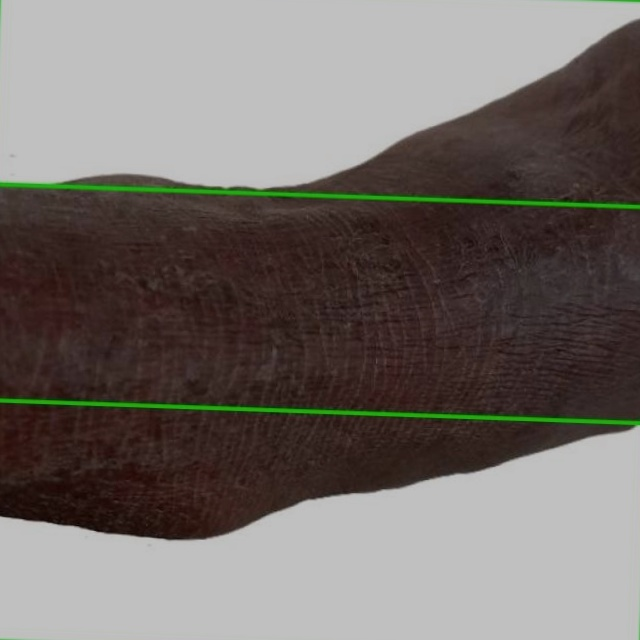Contact Dermatitis: (0, 400, 639, 639), (0, 0, 639, 205)
